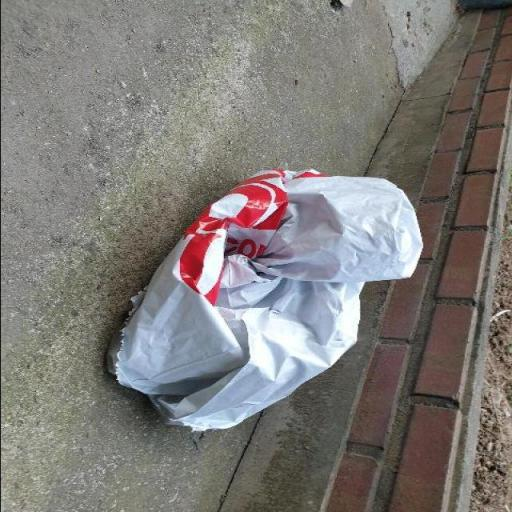plastic-bag: (106, 172, 428, 436)
